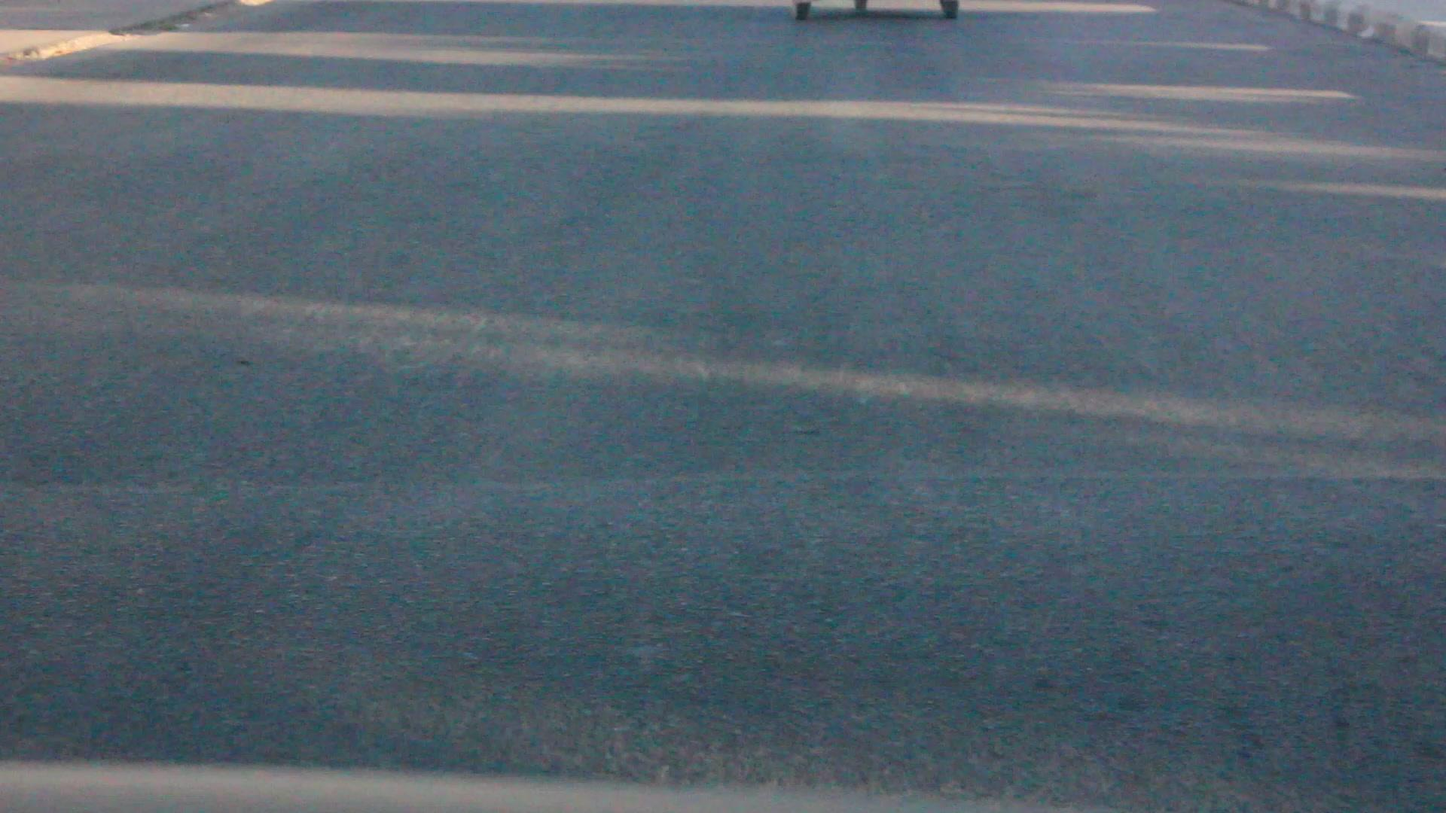Bump: (0, 461, 1446, 811)
